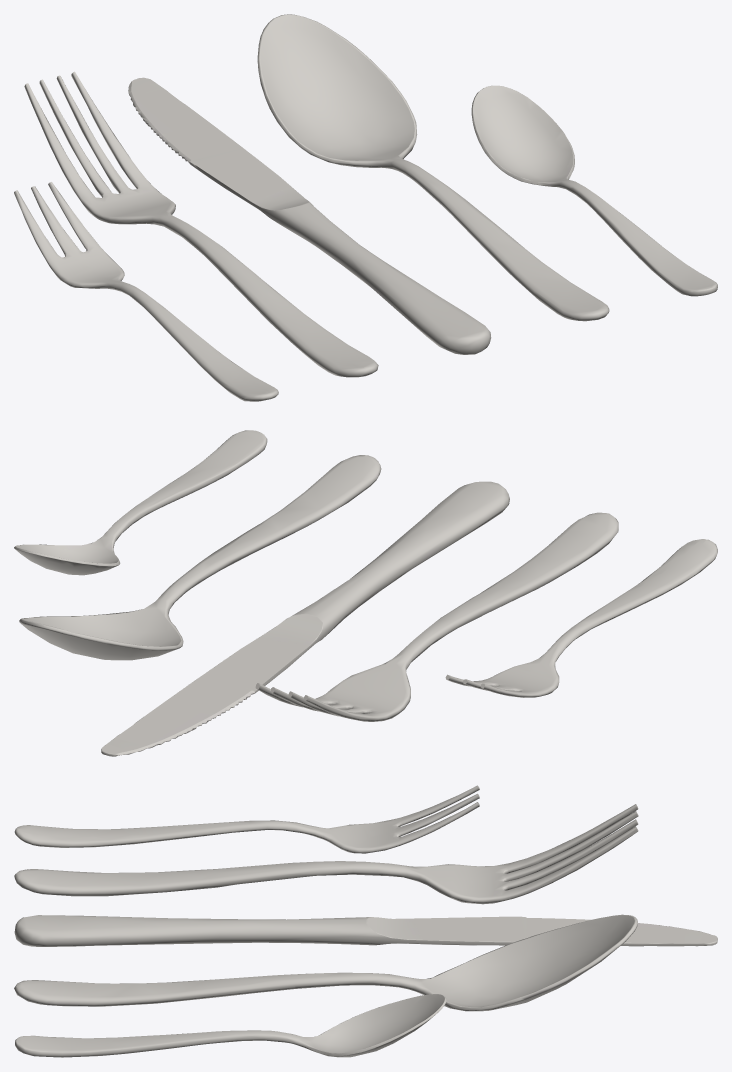
Rendered from MARTORP Couverts, 30 pièces, acier inoxydable.glb.
The picture shows the model from 3 angles, top to bottom: view 1: azimuth 30°, elevation 25°; view 2: azimuth 150°, elevation 25°; view 3: azimuth 270°, elevation 25°; orthographic projection. The views are drawn at different scales.
Parts seen in each view (by area): view 1: ASY_LPT04_30167507_S01_NV01, ASY_LPT03_30167507_S01_NV01, ASY_LPT02_30167507_S01_NV01, ASY_LPT05_30167507_S01_NV01, ASY_LPT01_30167507_S01_NV01; view 2: ASY_LPT03_30167507_S01_NV01, ASY_LPT04_30167507_S01_NV01, ASY_LPT02_30167507_S01_NV01, ASY_LPT01_30167507_S01_NV01, ASY_LPT05_30167507_S01_NV01; view 3: ASY_LPT04_30167507_S01_NV01, ASY_LPT03_30167507_S01_NV01, ASY_LPT02_30167507_S01_NV01, ASY_LPT05_30167507_S01_NV01, ASY_LPT01_30167507_S01_NV01.
Boxes of the visible parts, x1,y1,x2,y2 form: ASY_LPT04_30167507_S01_NV01: (257,14,609,321); ASY_LPT03_30167507_S01_NV01: (128,77,491,354); ASY_LPT02_30167507_S01_NV01: (24,71,378,377); ASY_LPT05_30167507_S01_NV01: (471,85,717,296); ASY_LPT01_30167507_S01_NV01: (14,182,278,401); ASY_LPT03_30167507_S01_NV01: (101,481,509,756); ASY_LPT04_30167507_S01_NV01: (19,455,381,660); ASY_LPT02_30167507_S01_NV01: (255,512,618,721); ASY_LPT01_30167507_S01_NV01: (445,539,717,697); ASY_LPT05_30167507_S01_NV01: (14,430,267,575); ASY_LPT04_30167507_S01_NV01: (14,914,637,1011); ASY_LPT03_30167507_S01_NV01: (14,915,717,946); ASY_LPT02_30167507_S01_NV01: (14,804,638,904); ASY_LPT05_30167507_S01_NV01: (15,994,446,1057); ASY_LPT01_30167507_S01_NV01: (14,785,479,853).
Size of the model in its own units: 0.1794 by 0.027 by 0.2201.
5 materials, 5 textured.
